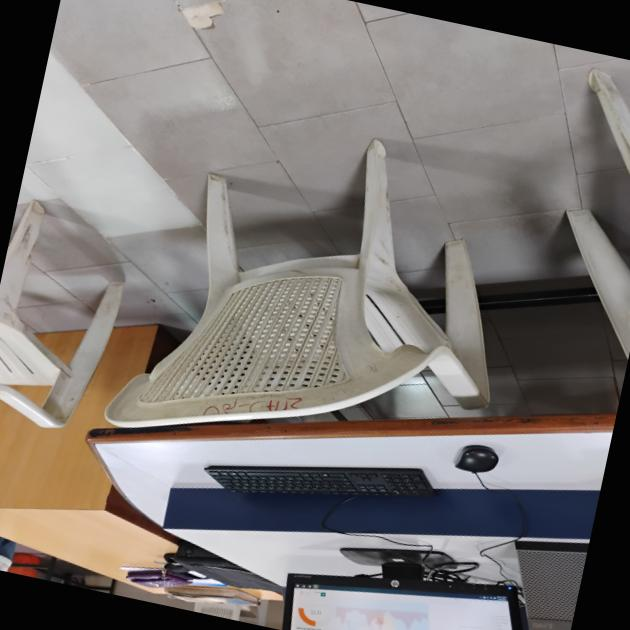computer: (272, 534, 559, 630)
keyboard: (211, 427, 444, 544)
mouse: (448, 426, 512, 492)
